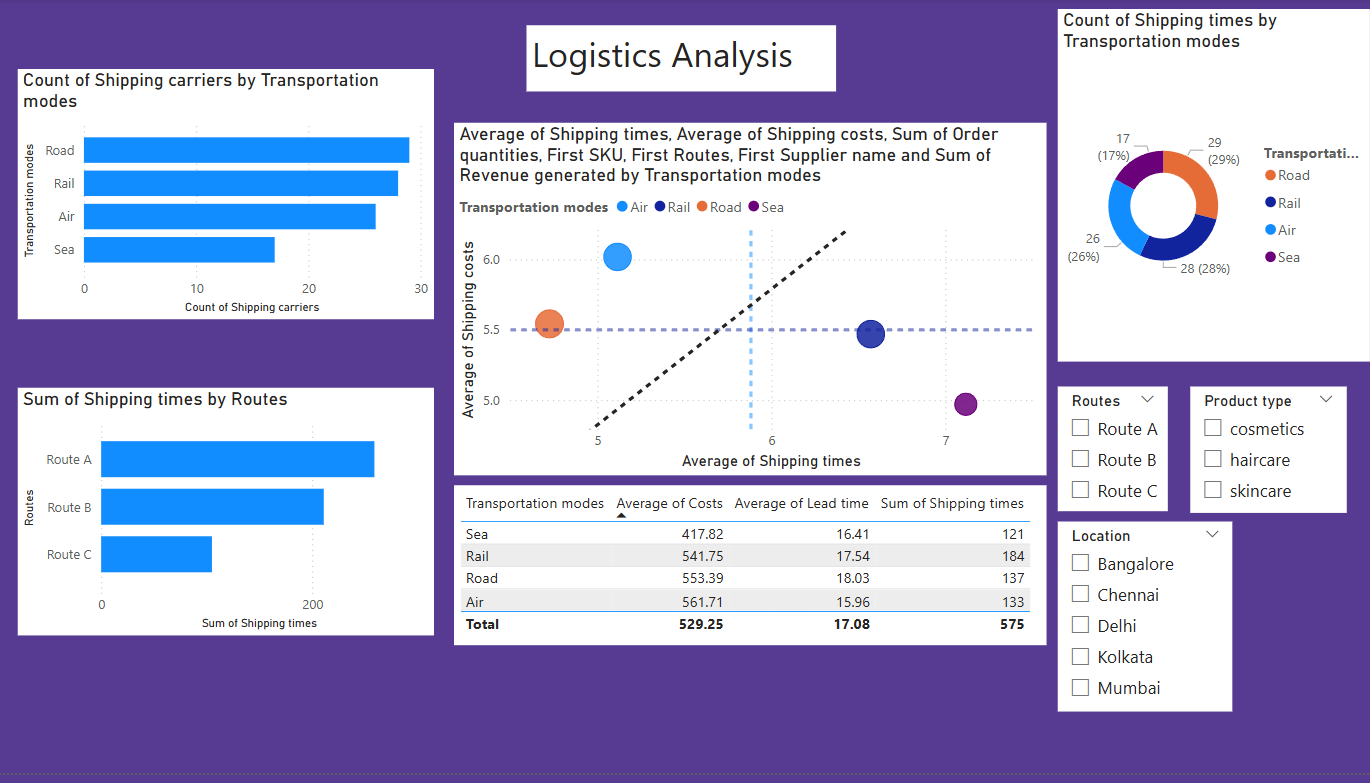

The dashboard page shown, as its layout file describes it:
{"tool":"powerbi","page":{"name":"Logistics Analysis","canvas":[1280,720],"ordinal":2},"visuals":[{"type":"textbox","box":[495.4,24.4,288.4,61.6],"z":0},{"type":"barChart","fields":{"Y":["CountNonNull(supply_chain_data.Shipping carriers)"],"Category":["supply_chain_data.Transportation modes"]},"box":[22.1,65.1,387.2,232.6],"z":1000},{"type":"barChart","fields":{"Y":["Sum(supply_chain_data.Shipping times)"],"Category":["supply_chain_data.Routes"]},"box":[22.1,361.6,387.2,230.2],"z":2000},{"type":"scatterChart","fields":{"X":["Avg(supply_chain_data.Shipping times)"],"Y":["Avg(supply_chain_data.Shipping costs)"],"Series":["supply_chain_data.Transportation modes"],"Size":["Sum(supply_chain_data.Order quantities)"]},"box":[427.9,115.1,551.2,327.9],"z":2001},{"type":"tableEx","fields":{"Values":["supply_chain_data.Transportation modes","Avg(supply_chain_data.Costs)","Avg(supply_chain_data.Lead time)","Sum(supply_chain_data.Shipping times)"]},"box":[427.9,452.3,551.2,148.8],"z":2002},{"type":"donutChart","fields":{"Y":["CountNonNull(supply_chain_data.Shipping times)"],"Category":["supply_chain_data.Transportation modes"]},"box":[989.5,9.3,290.7,327.9],"z":2003},{"type":"slicer","fields":{"Values":["supply_chain_data.Routes"]},"box":[989.5,360.5,102.3,116.3],"z":2004},{"type":"slicer","fields":{"Values":["supply_chain_data.Product type"]},"box":[1112.8,360.5,145.3,117.4],"z":2005},{"type":"slicer","fields":{"Values":["supply_chain_data.Location"]},"box":[989.5,486,162.8,176.7],"z":2006}]}

Visuals, with their boxes in screenshot pixels (x1, y1, x2, y2), scaled from the page's 1280x720 canvas onto the 1370x783 screenshot:
textbox: (530,27,839,94)
barChart - CountNonNull(supply_chain_data.Shipping carriers) x supply_chain_data.Transportation modes: (24,71,438,324)
barChart - Sum(supply_chain_data.Shipping times) x supply_chain_data.Routes: (24,393,438,644)
scatterChart - Avg(supply_chain_data.Shipping times) x Avg(supply_chain_data.Shipping costs): (458,125,1048,482)
tableEx - supply_chain_data.Transportation modes x Avg(supply_chain_data.Costs): (458,492,1048,654)
donutChart - CountNonNull(supply_chain_data.Shipping times) x supply_chain_data.Transportation modes: (1059,10,1369,367)
slicer - supply_chain_data.Routes: (1059,392,1169,519)
slicer - supply_chain_data.Product type: (1191,392,1347,520)
slicer - supply_chain_data.Location: (1059,529,1233,721)
